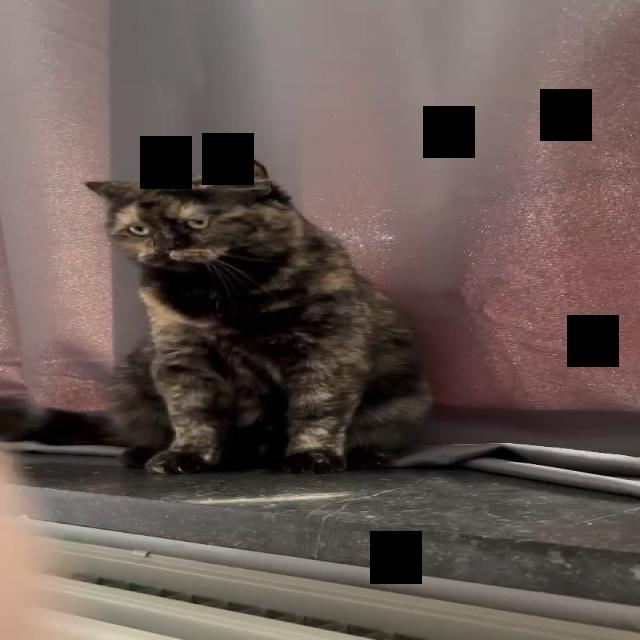authorized: (82, 156, 434, 475)
